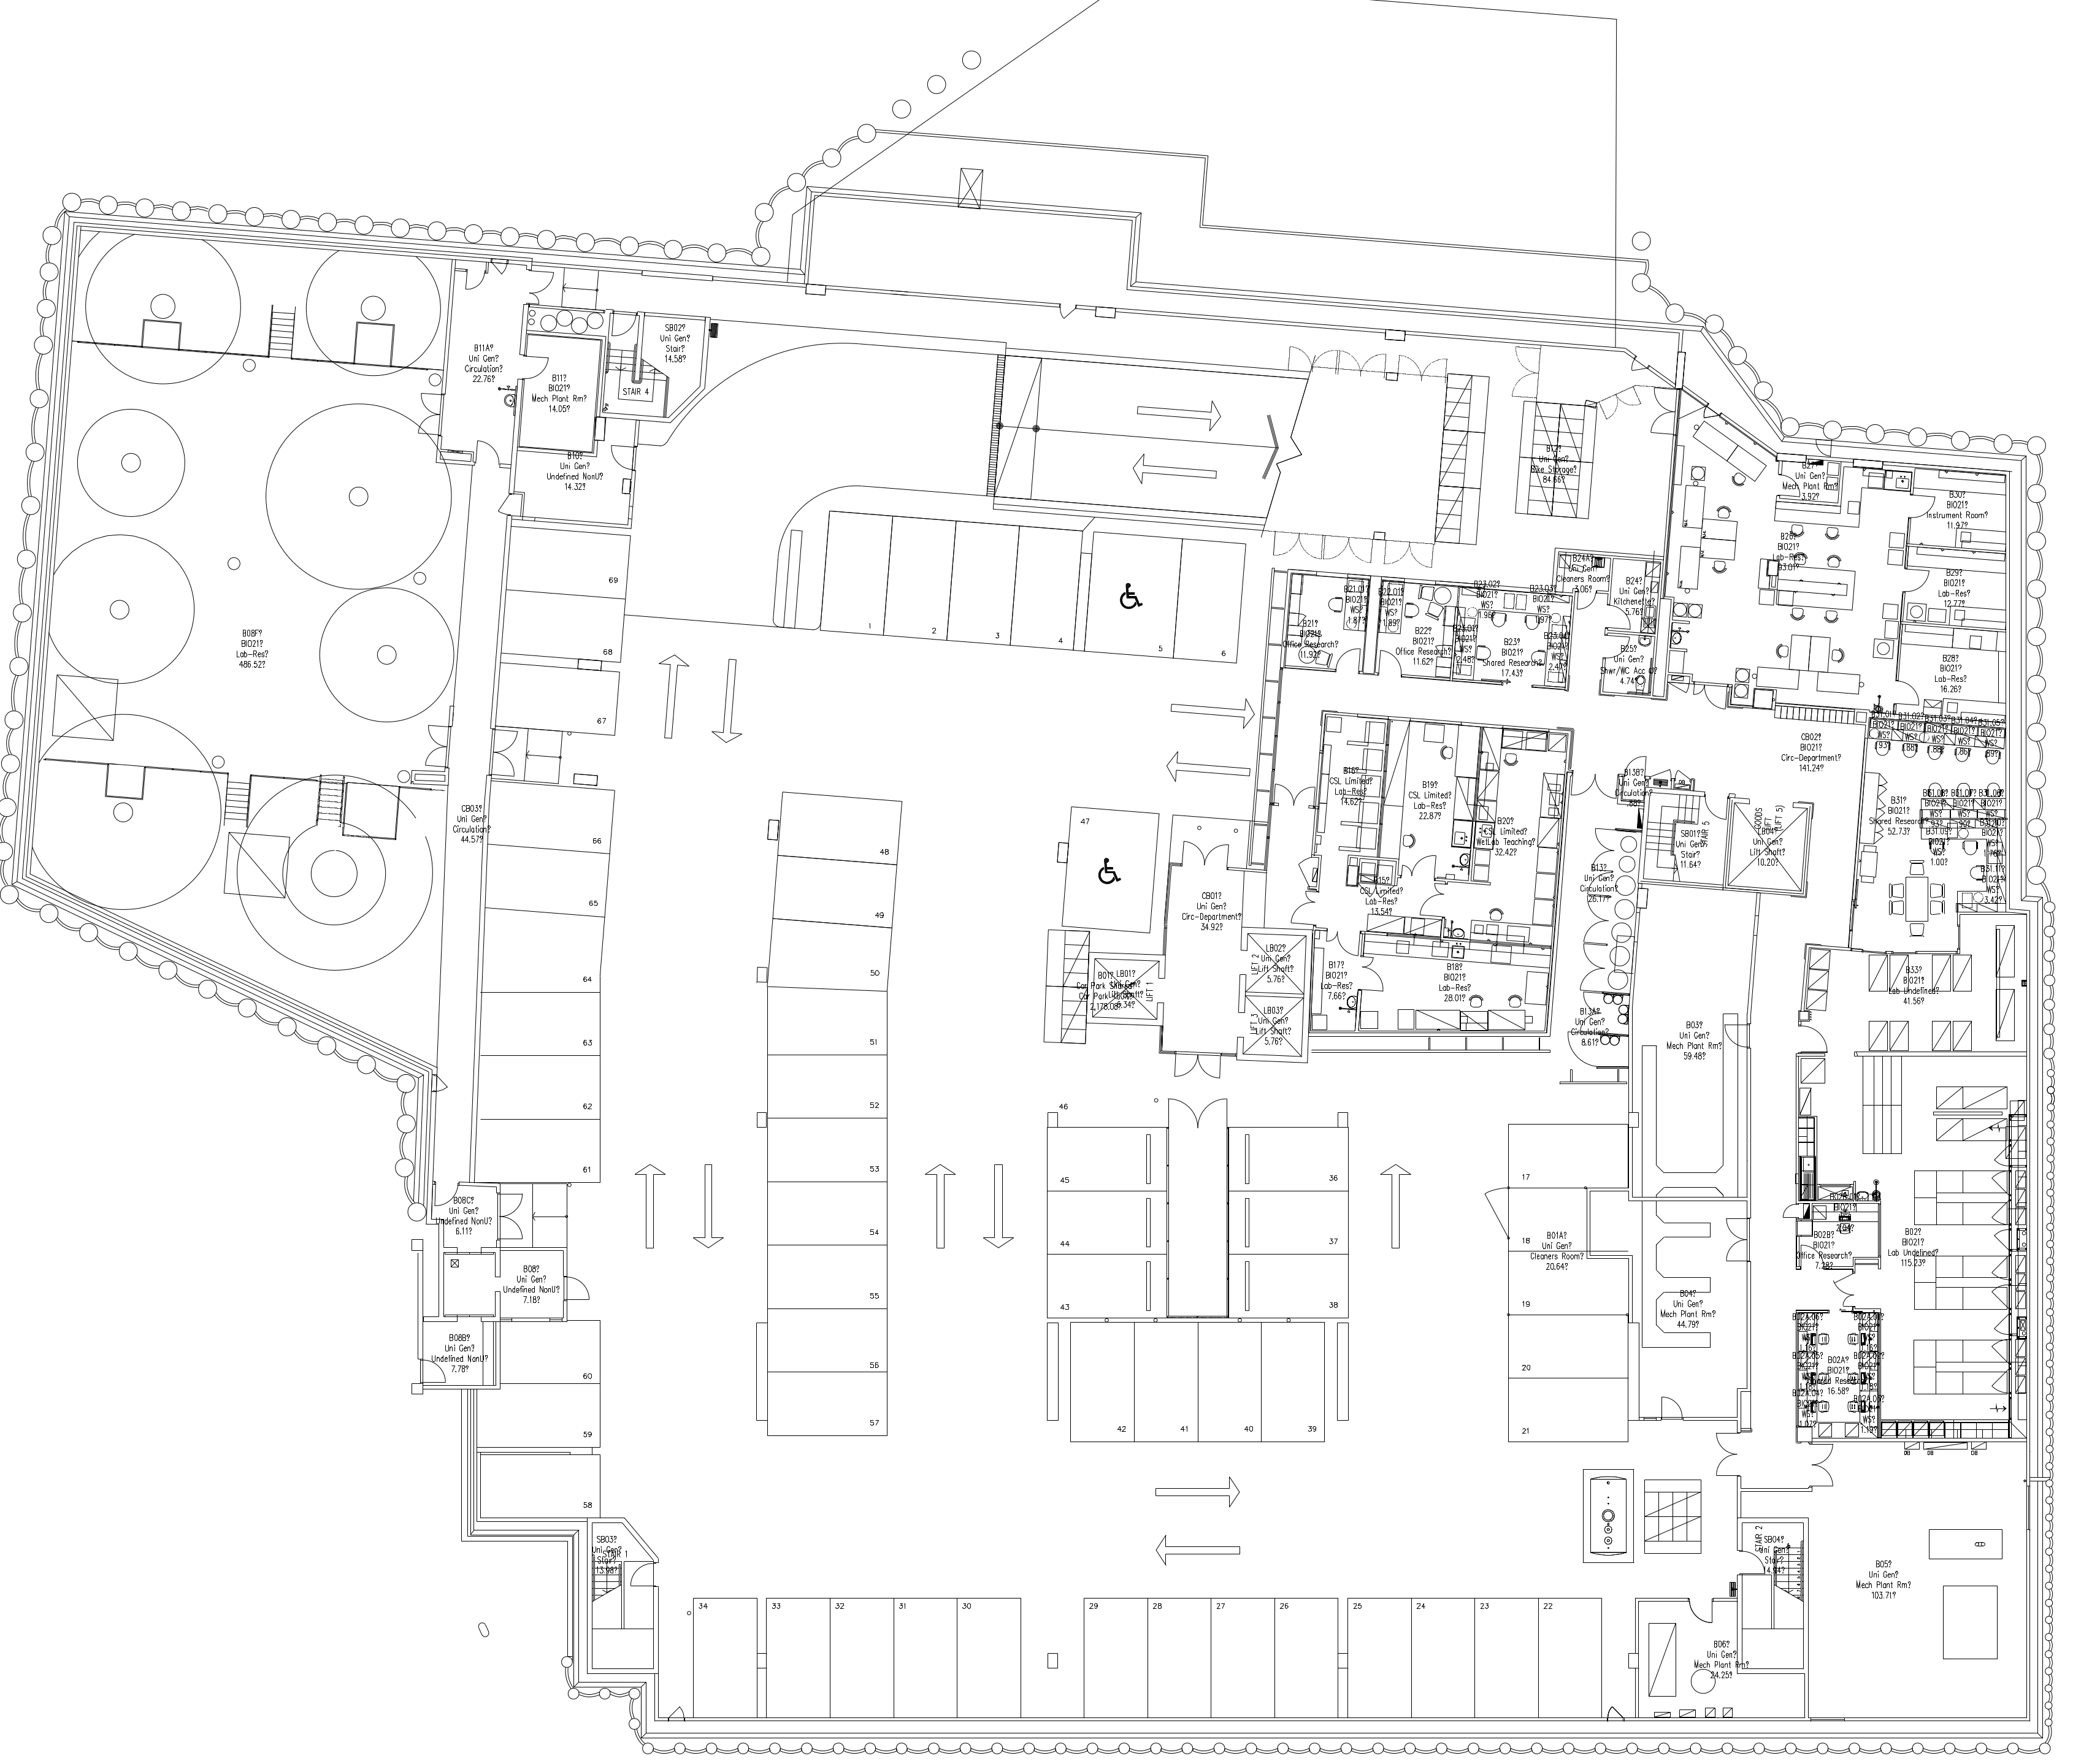room: (26, 224, 449, 1074), (1649, 384, 2018, 727), (1786, 1050, 2014, 1443), (1798, 1438, 2034, 1726), (795, 183, 1151, 337), (1628, 875, 1770, 1202), (1843, 715, 2014, 957), (1637, 1197, 1759, 1420), (1158, 837, 1254, 1092), (1628, 1597, 1813, 1719), (1354, 929, 1557, 1039), (1885, 908, 2034, 1057), (433, 260, 538, 470), (1632, 1413, 1742, 1607), (1468, 718, 1578, 891), (1307, 708, 1392, 903), (1398, 716, 1487, 886), (1053, 800, 1158, 940), (1509, 341, 1682, 425), (1787, 1305, 1890, 1445), (1452, 580, 1574, 694), (1081, 531, 1183, 667), (1794, 938, 1899, 1057), (1892, 618, 2011, 720), (515, 328, 603, 461), (1892, 540, 2014, 634), (1890, 463, 2014, 556), (479, 903, 606, 992), (1235, 926, 1316, 1066), (1277, 566, 1375, 680), (1167, 535, 1249, 669), (479, 777, 620, 854), (945, 517, 1022, 659), (772, 788, 901, 872), (477, 844, 620, 917), (884, 510, 959, 648), (816, 508, 895, 639), (770, 853, 898, 933), (491, 660, 624, 737), (763, 915, 893, 994), (1010, 522, 1083, 660), (498, 589, 629, 664), (505, 526, 634, 601), (1724, 795, 1815, 901), (1502, 1247, 1635, 1319), (765, 985, 891, 1059), (763, 1115, 891, 1186), (1536, 1595, 1607, 1723), (1506, 1377, 1634, 1448), (1375, 575, 1457, 685), (1043, 1251, 1172, 1321), (477, 1452, 603, 1523), (1502, 1314, 1634, 1382), (891, 1593, 961, 1721), (763, 1307, 891, 1377), (1225, 1251, 1352, 1321), (1504, 1122, 1632, 1191), (475, 1382, 604, 1450), (1144, 1595, 1214, 1721), (1132, 1321, 1202, 1447), (1408, 1597, 1478, 1723), (472, 1118, 603, 1184), (763, 1242, 891, 1310), (1043, 1125, 1171, 1193), (763, 1370, 888, 1440), (1260, 1321, 1330, 1445), (1043, 1190, 1172, 1256), (763, 1179, 889, 1247), (1225, 1188, 1350, 1256), (1195, 1321, 1263, 1447), (690, 1595, 760, 1717), (763, 1597, 833, 1719), (1081, 1597, 1151, 1719), (1345, 1597, 1415, 1719), (763, 1053, 891, 1120), (1225, 1125, 1349, 1193), (1067, 1321, 1136, 1445), (1211, 1595, 1277, 1721), (1475, 1593, 1541, 1719), (1272, 1597, 1340, 1719), (1777, 1198, 1885, 1275), (473, 1055, 601, 1120), (832, 1595, 896, 1723), (477, 992, 603, 1057), (957, 1593, 1022, 1719), (1483, 1184, 1592, 1258), (494, 1317, 603, 1385), (1307, 926, 1371, 1036), (496, 1247, 592, 1321), (430, 1179, 528, 1251), (416, 1316, 501, 1391), (1569, 987, 1635, 1073), (1602, 552, 1663, 636), (1592, 629, 1656, 708), (1548, 545, 1614, 603), (622, 1560, 660, 1632)
